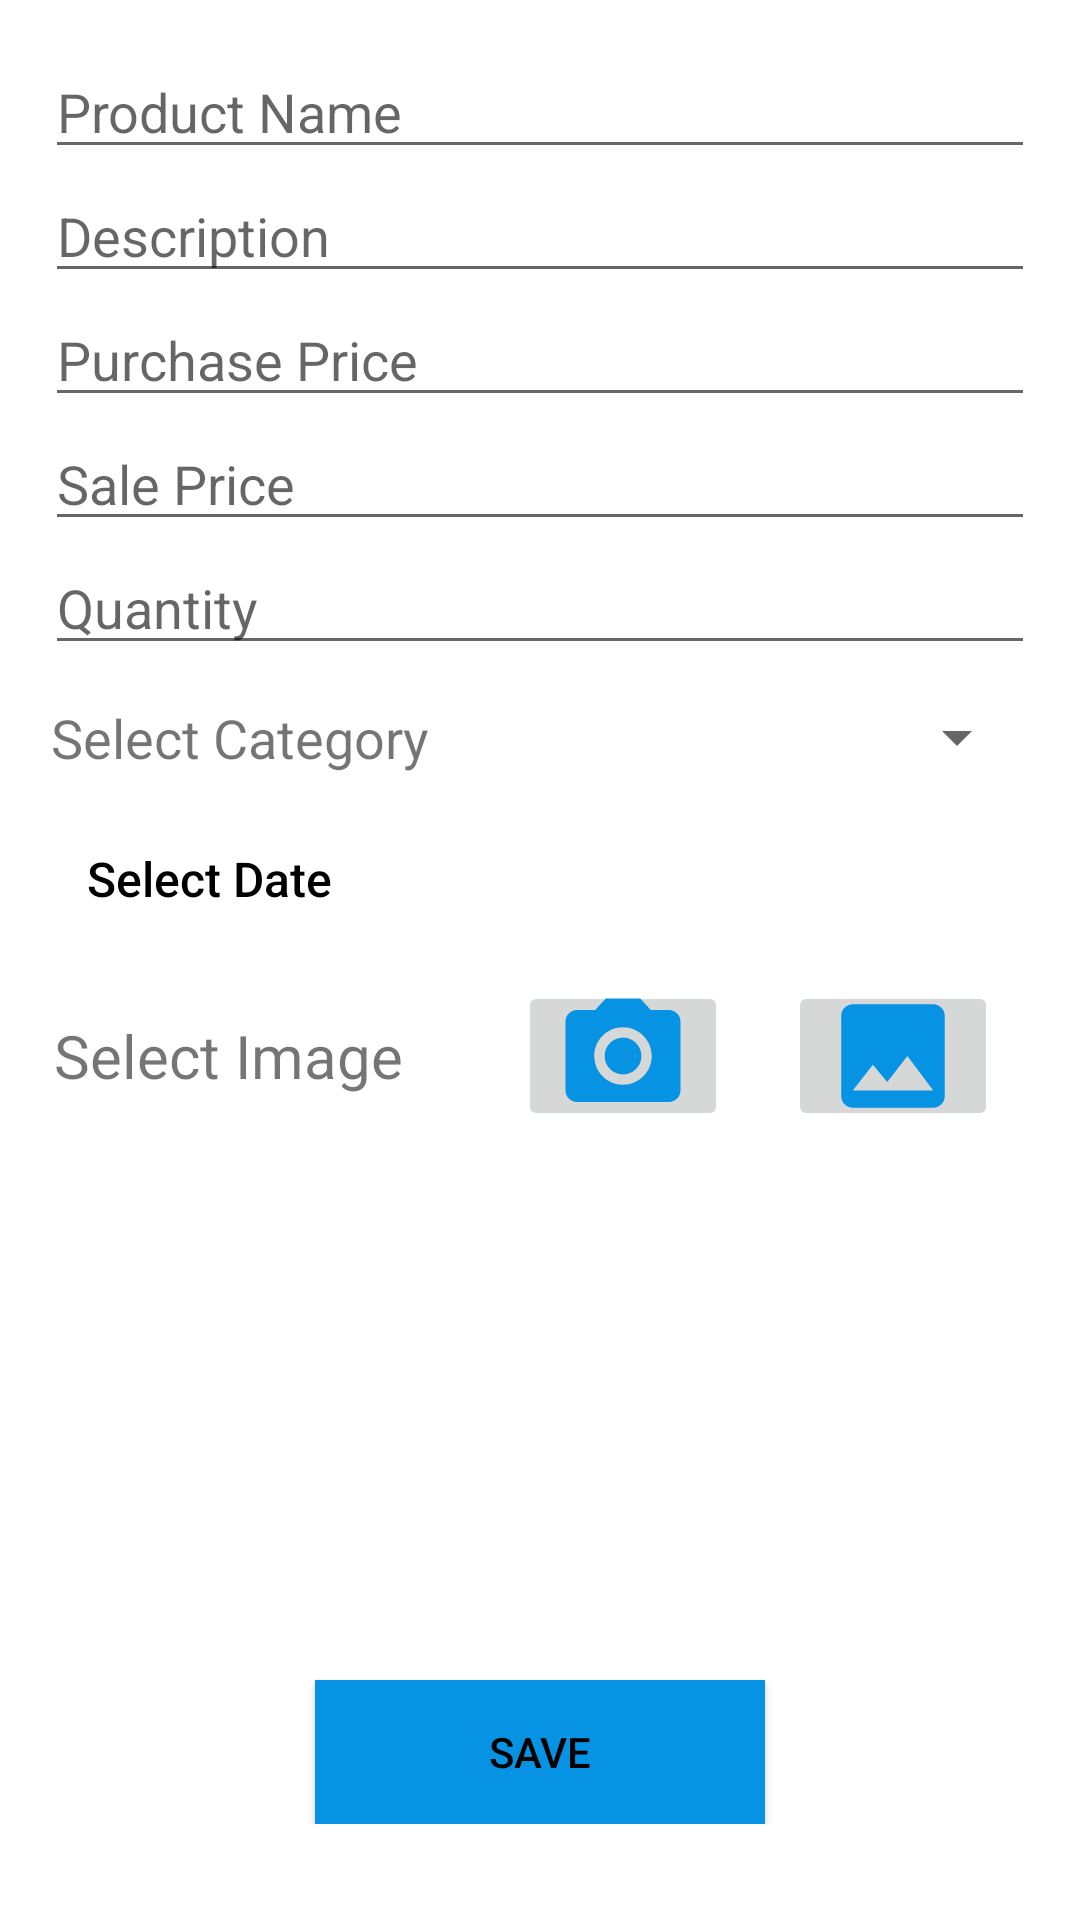

Where to tap for icons on this 1080px×1920px app screen, as (x=x, y=y):
camera: (x=623, y=1055)
insert photo: (x=893, y=1056)
